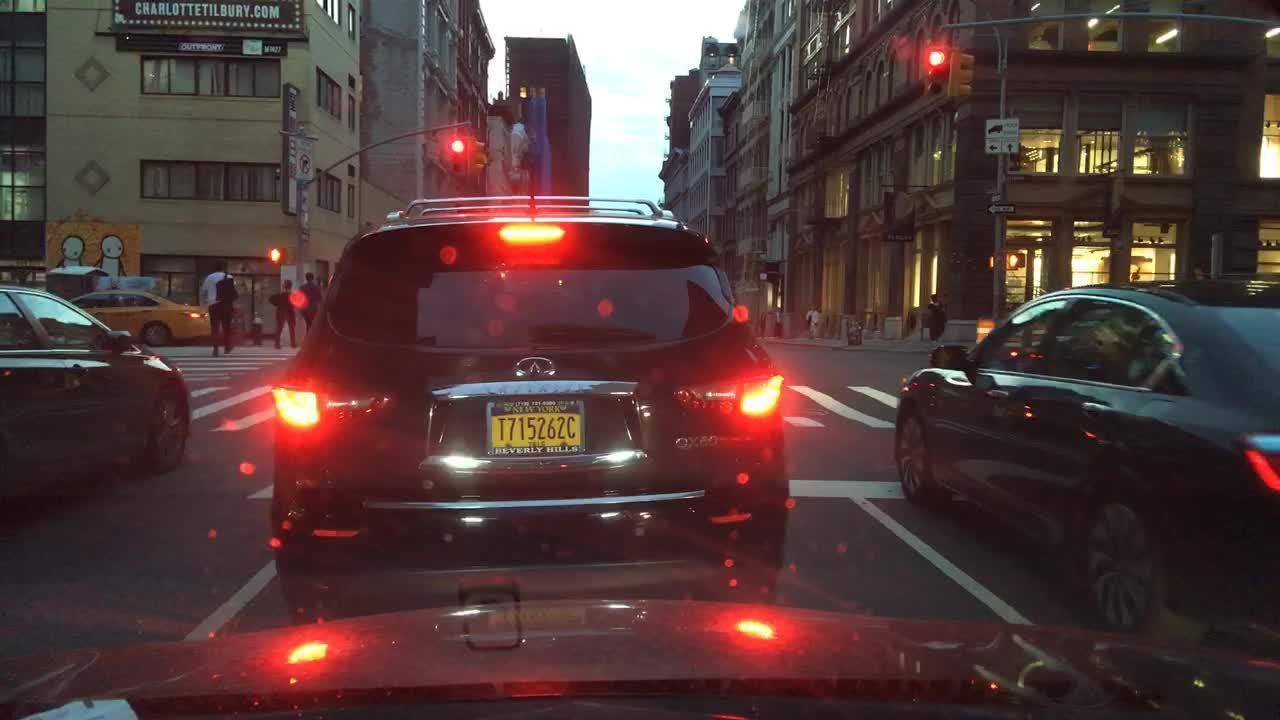Infiniti: (505, 351, 566, 385)
